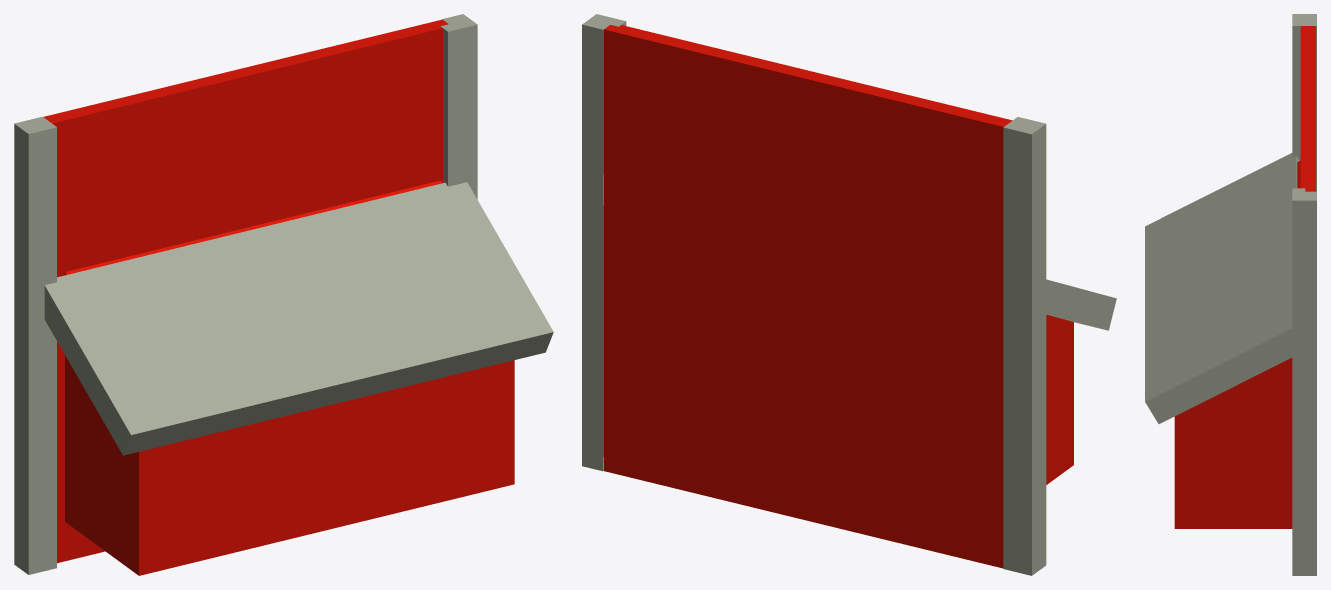
File: parede_esquerda.gltf
3 renders of one model, left to right at view 1: azimuth 30°, elevation 25°; view 2: azimuth 150°, elevation 25°; view 3: azimuth 270°, elevation 25°, orthographic. The views are drawn at different scales.
Parts seen in each view (by area): view 1: parede da caixinha; view 2: parede da caixinha; view 3: parede da caixinha.
Boxes of the visible parts, x1=… form: parede da caixinha: x1=14, y1=14, x2=553, y2=575; parede da caixinha: x1=582, y1=14, x2=1116, y2=575; parede da caixinha: x1=1145, y1=14, x2=1316, y2=575.
Bounding box in the file's own units: 1.36 × 1.28 × 0.531.
